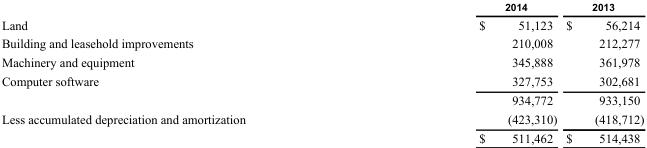table: (0, 0, 643, 144)
table column: (0, 0, 361, 144), (361, 0, 560, 144), (560, 0, 643, 144)
table column header: (0, 0, 643, 14)
table row: (0, 14, 643, 33), (0, 33, 643, 52), (0, 52, 643, 71), (0, 71, 643, 90), (0, 90, 643, 109), (0, 109, 643, 128), (0, 128, 643, 144), (0, 0, 643, 14)
